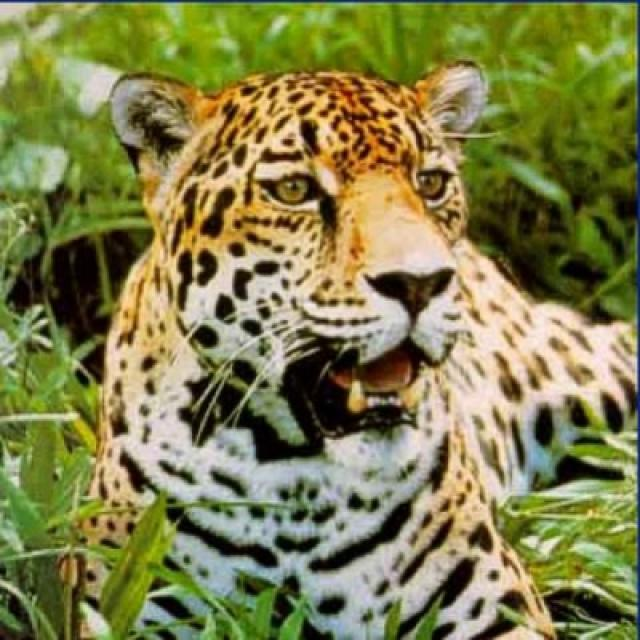Jaguar: (86, 61, 634, 638)
